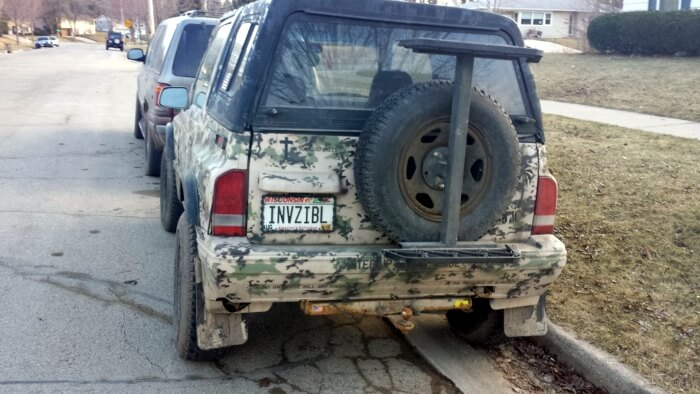license plate: (259, 191, 337, 235)
